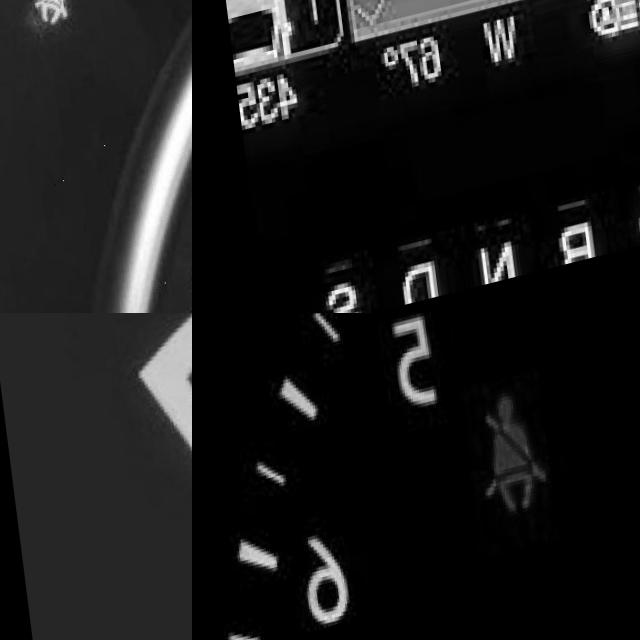Seat Belt: (467, 407, 540, 540), (22, 0, 66, 44)
Washer Fluid: (107, 313, 192, 640), (624, 0, 640, 51)
